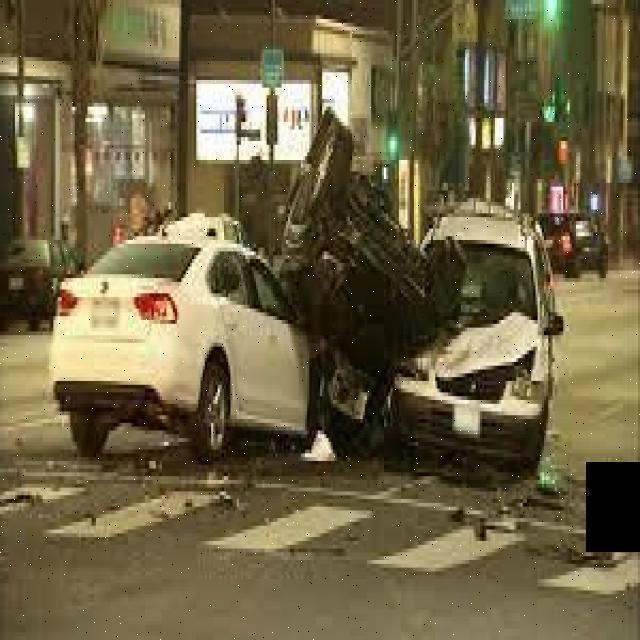accident: (50, 110, 560, 461)
